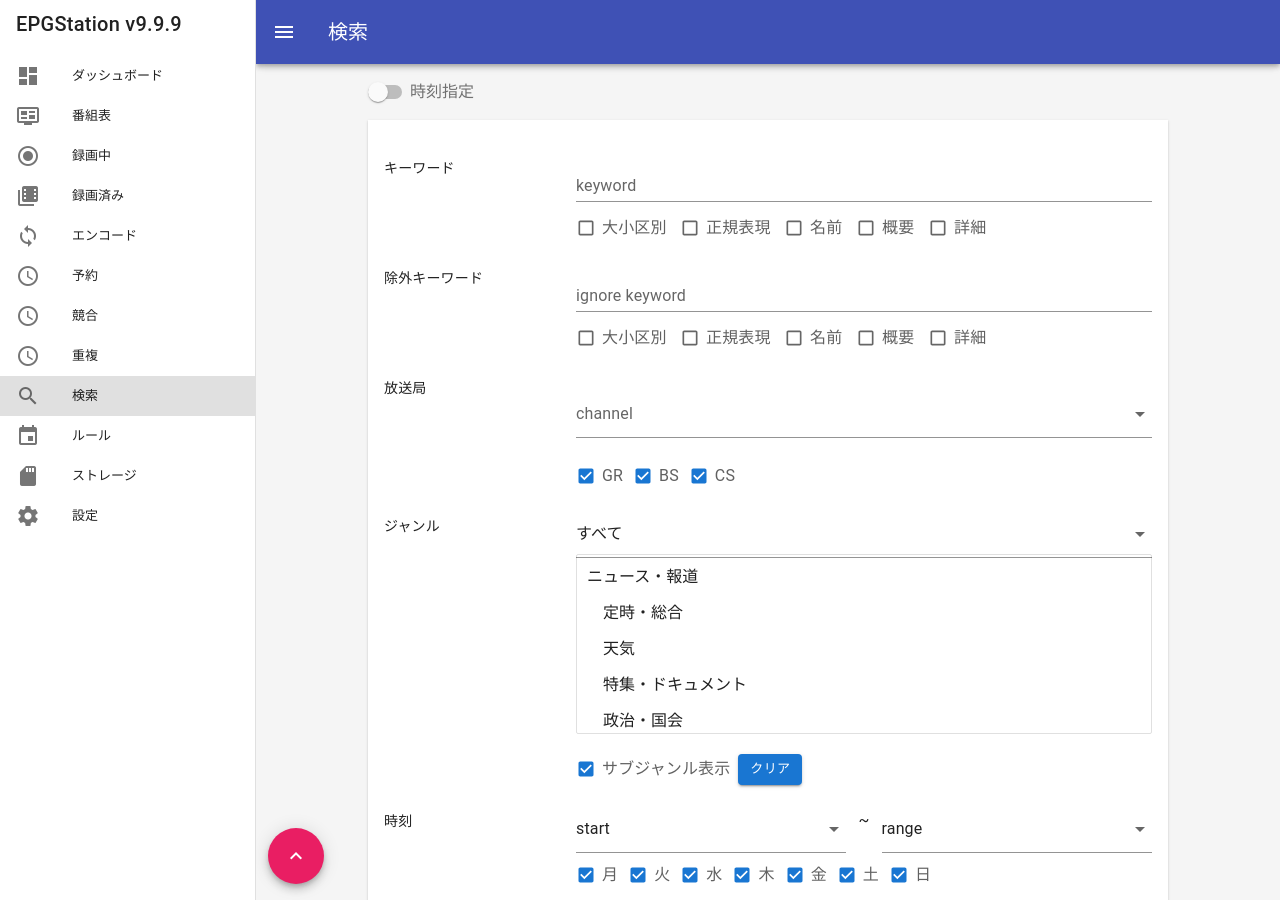
Test: Search route lifecycle › [AC 1.3][AC 1.5] renders plain /search without firing a default search or Socket.IO refetch before user action
Check: the heading "検索" is shown, box [328,20,368,44]
Type "Synthetic" into the field labelled "keyword" at (864, 186), box [576,170,1152,202]
(page scrolled)
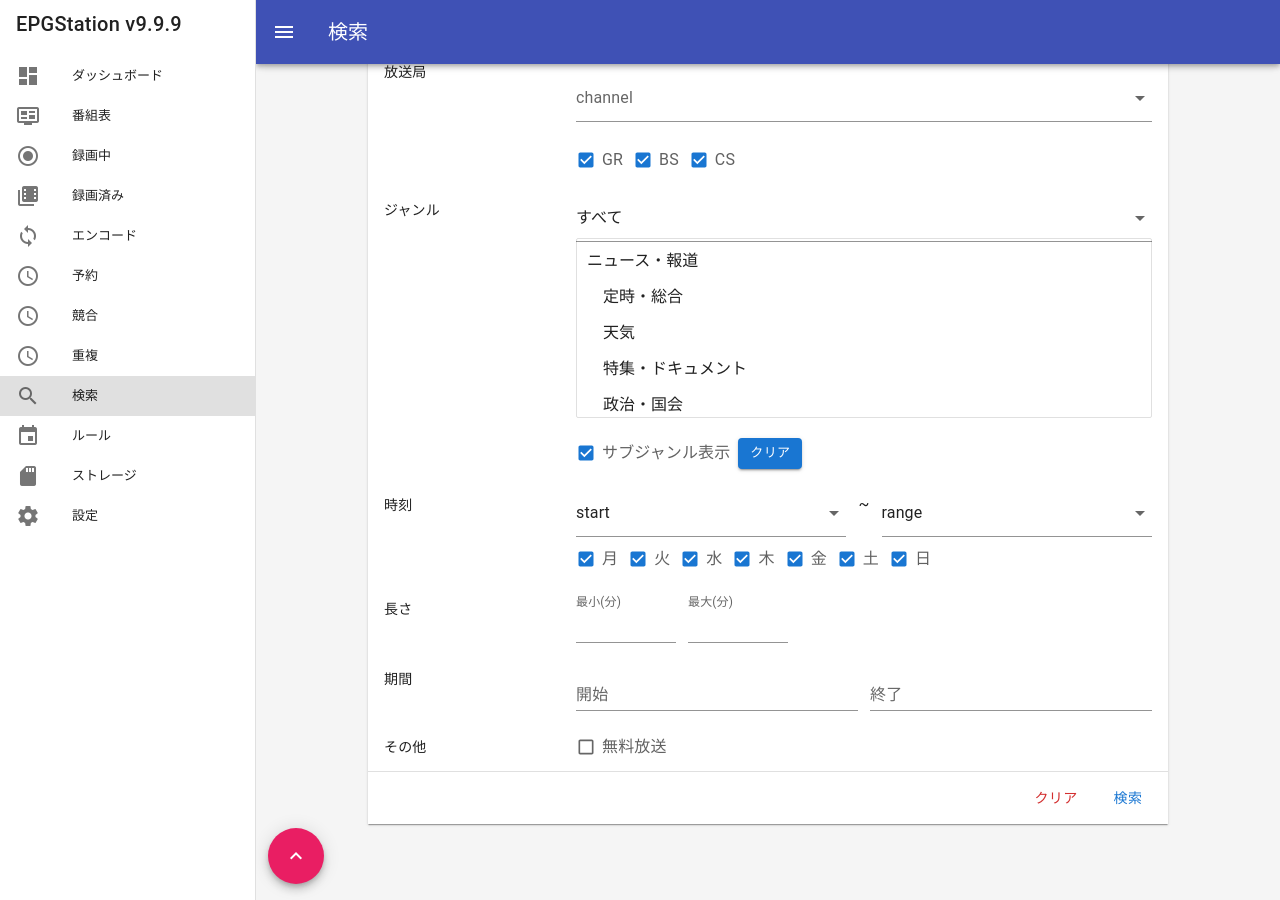
Click the 2nd button "検索" at (1128, 798), box [1096,780,1160,816]
(page scrolled)
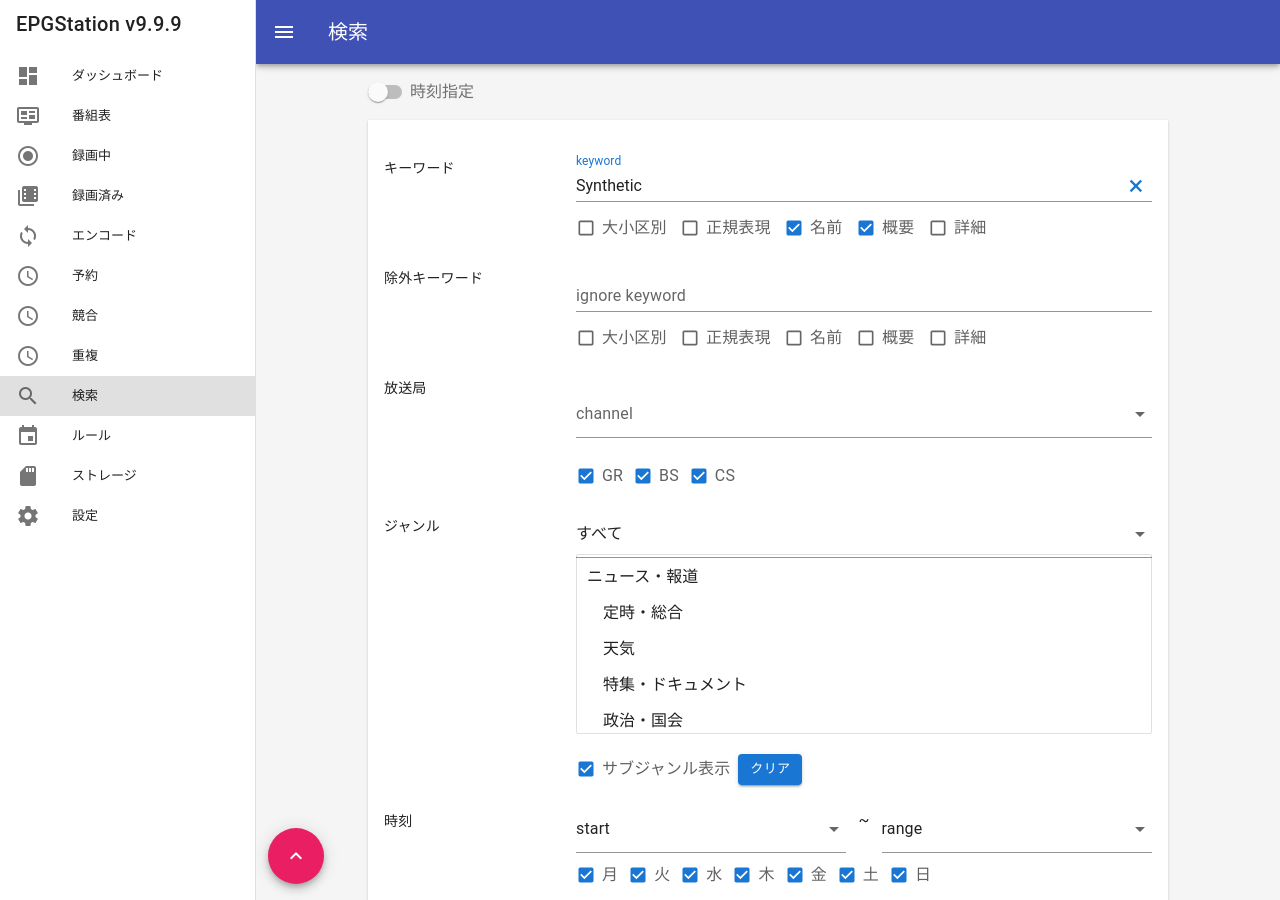
Replace the text in the field labelled "keyword" with "Changed" at (864, 186), box [576,170,1152,202]
(page scrolled)
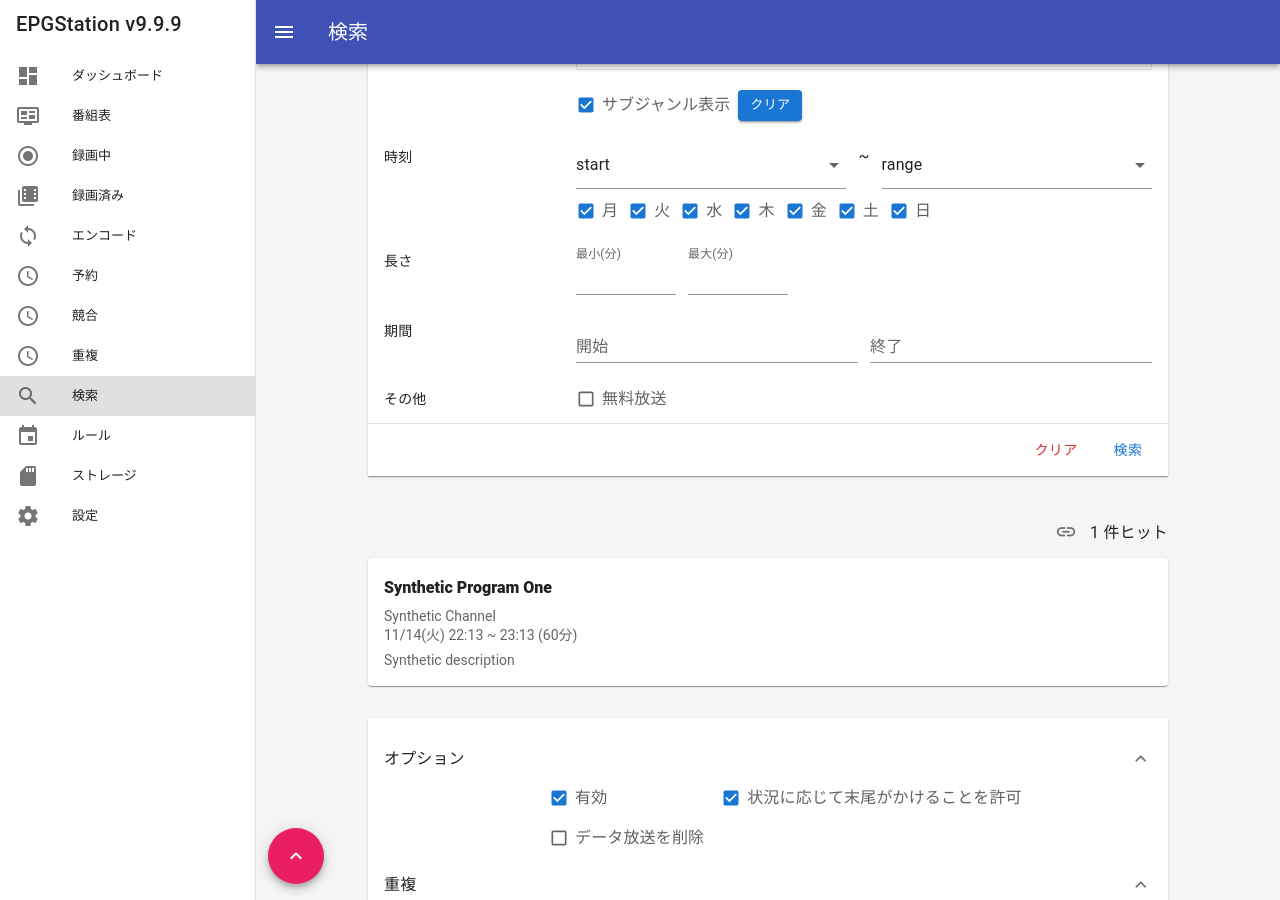
Click the 2nd button "検索" at (1128, 450), box [1096,432,1160,468]
(page scrolled)
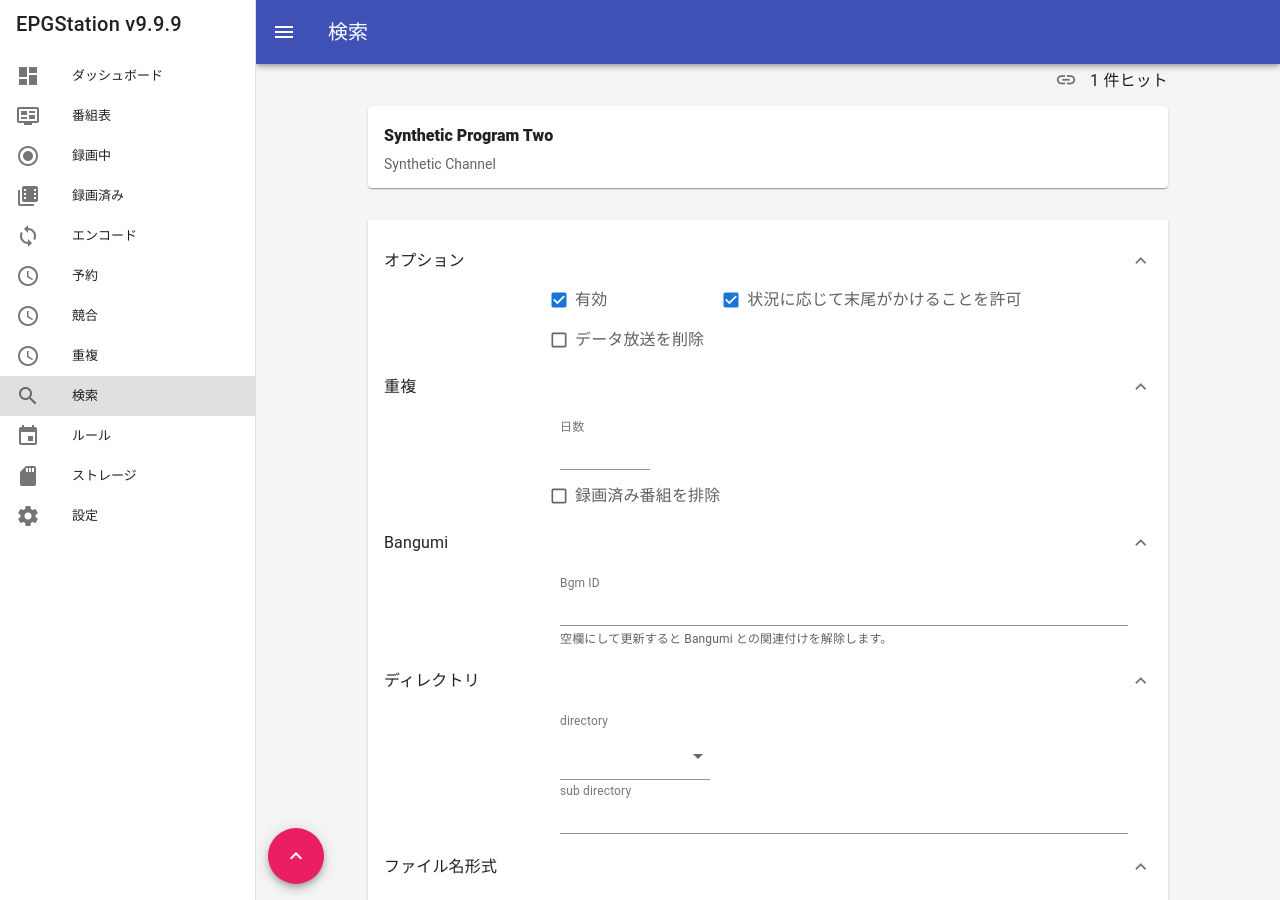
Check: the text "Synthetic Program Two" is shown, box [384,126,553,145]
